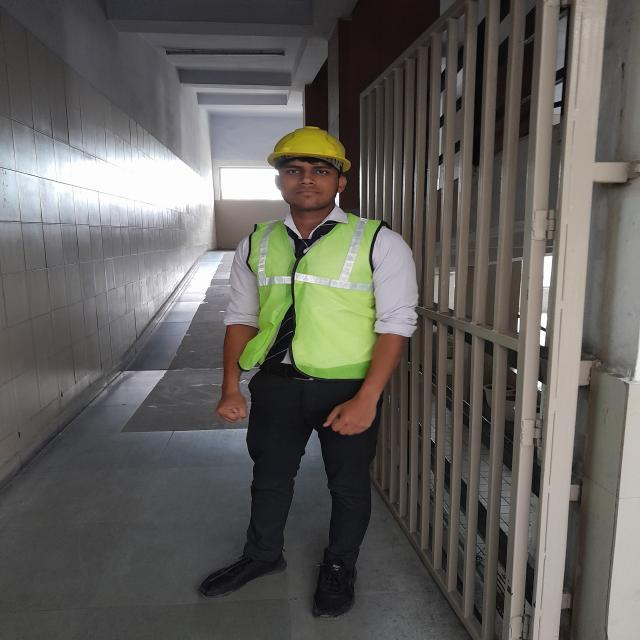safe: (212, 126, 420, 620)
